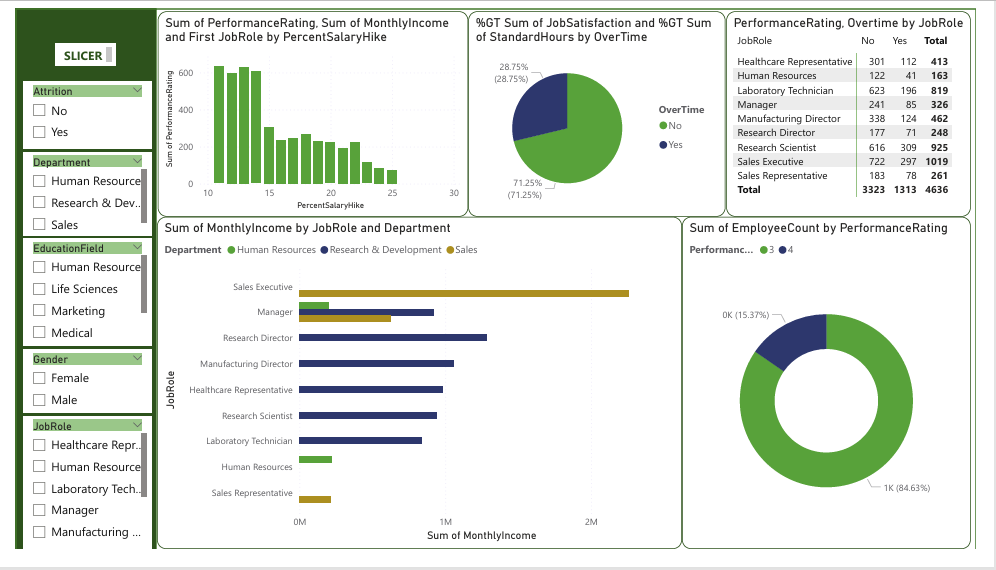

This screenshot's page, from the dashboard's own definition file:
{"tool":"powerbi","page":{"name":"Page 2","canvas":[1280,720],"ordinal":1},"visuals":[{"type":"shape","box":[154.5,0,1125.5,720.6],"z":0},{"type":"columnChart","fields":{"Category":["HR Analytics Data.PercentSalaryHike"],"Y":["Sum(HR Analytics Data.PerformanceRating)"]},"box":[188.9,3.3,414.4,273.3],"z":1000},{"type":"clusteredBarChart","fields":{"Y":["Sum(HR Analytics Data.MonthlyIncome)"],"Category":["HR Analytics Data.JobRole"],"Series":["HR Analytics Data.Department"]},"box":[188.3,276.7,700,443.3],"z":2000},{"type":"pivotTable","title":"PerformanceRating, Overtime by JobRole","fields":{"Rows":["HR Analytics Data.JobRole"],"Values":["Sum(HR Analytics Data.PerformanceRating)"],"Columns":["HR Analytics Data.OverTime"]},"box":[946.7,3.3,326.7,273.3],"z":3000},{"type":"shape","box":[0,0,188,720.6],"z":4000},{"type":"pieChart","fields":{"Category":["HR Analytics Data.OverTime"],"Y":["Sum(HR Analytics Data.JobSatisfaction)"]},"box":[603.3,3.3,342.2,273.3],"z":5000},{"type":"donutChart","fields":{"Category":["HR Analytics Data.PerformanceRating"],"Y":["Sum(HR Analytics Data.EmployeeCount)"]},"box":[888.3,276.7,385,443.3],"z":6000},{"type":"slicer","fields":{"Values":["HR Analytics Data.Department"]},"box":[10,191.2,171.2,111.2],"z":7000},{"type":"slicer","fields":{"Values":["HR Analytics Data.EducationField"]},"box":[10,306.2,171.2,143.8],"z":8000},{"type":"slicer","fields":{"Values":["HR Analytics Data.Gender"]},"box":[10,453.8,171.2,85],"z":9000},{"type":"slicer","fields":{"Values":["HR Analytics Data.JobRole"]},"box":[10,542.5,171.2,177.5],"z":10000},{"type":"textbox","box":[52.9,45.7,81.4,30],"z":11000},{"type":"slicer","fields":{"Values":["HR Analytics Data.Attrition"]},"box":[10,97.1,171.4,90],"z":12000}]}

Visuals, with their boxes in screenshot pixels (x1, y1, x2, y2), scaled from the page's 1280x720 canvas onto the 996x570 screenshot:
shape: rect(120, 0, 995, 569)
columnChart - HR Analytics Data.PercentSalaryHike x Sum(HR Analytics Data.PerformanceRating): rect(147, 3, 469, 219)
clusteredBarChart - Sum(HR Analytics Data.MonthlyIncome) x HR Analytics Data.JobRole: rect(147, 219, 691, 569)
"PerformanceRating, Overtime by JobRole" pivotTable: rect(737, 3, 991, 219)
shape: rect(0, 0, 146, 569)
pieChart - HR Analytics Data.OverTime x Sum(HR Analytics Data.JobSatisfaction): rect(469, 3, 736, 219)
donutChart - HR Analytics Data.PerformanceRating x Sum(HR Analytics Data.EmployeeCount): rect(691, 219, 991, 569)
slicer - HR Analytics Data.Department: rect(8, 151, 141, 239)
slicer - HR Analytics Data.EducationField: rect(8, 242, 141, 356)
slicer - HR Analytics Data.Gender: rect(8, 359, 141, 427)
slicer - HR Analytics Data.JobRole: rect(8, 429, 141, 569)
textbox: rect(41, 36, 105, 60)
slicer - HR Analytics Data.Attrition: rect(8, 77, 141, 148)
